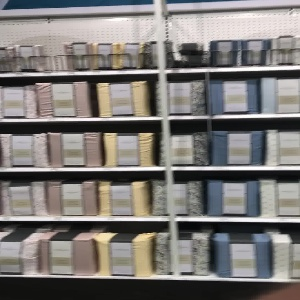void: (39, 17, 68, 71)
